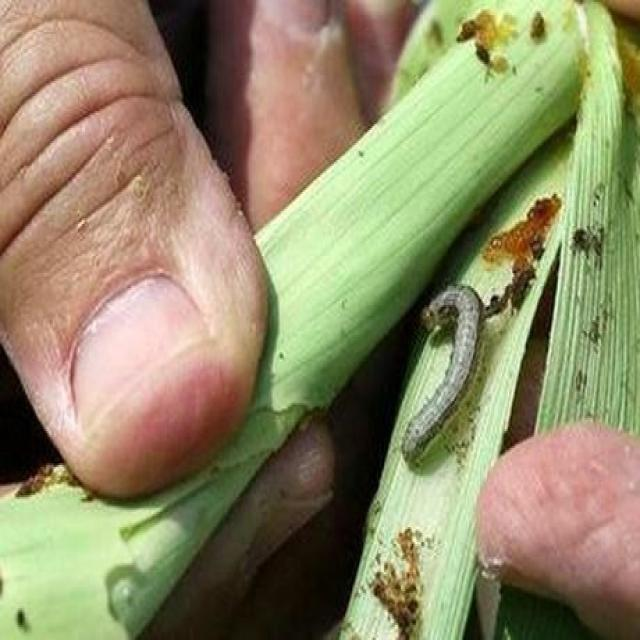army worm: (404, 291, 491, 460)
